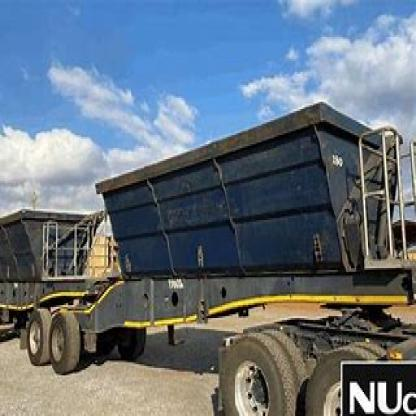dump_truck: (11, 102, 414, 409)
